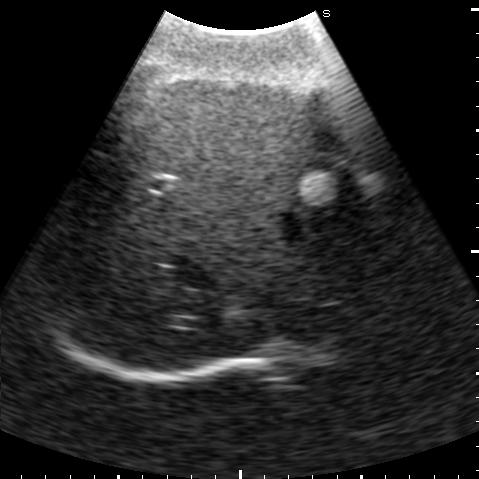S5: (112, 78, 354, 190)
S7: (38, 150, 158, 318)
S8: (85, 168, 380, 370)
Tumor: (297, 171, 337, 207)
